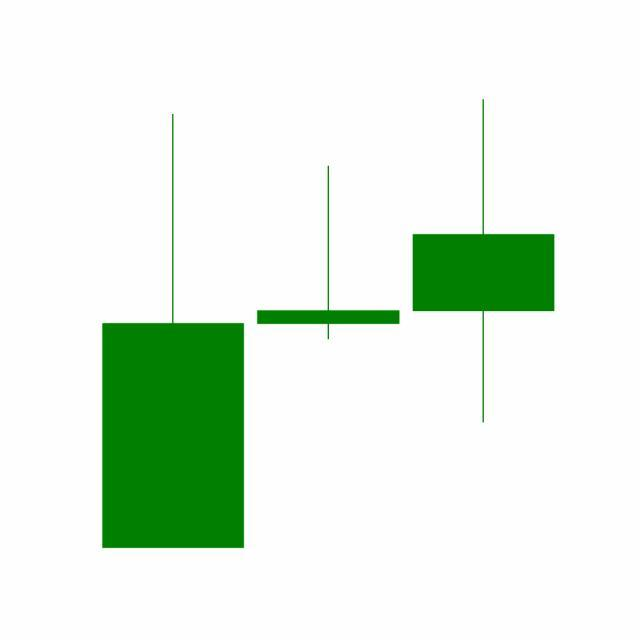Spinning Top: (250, 164, 407, 342)
